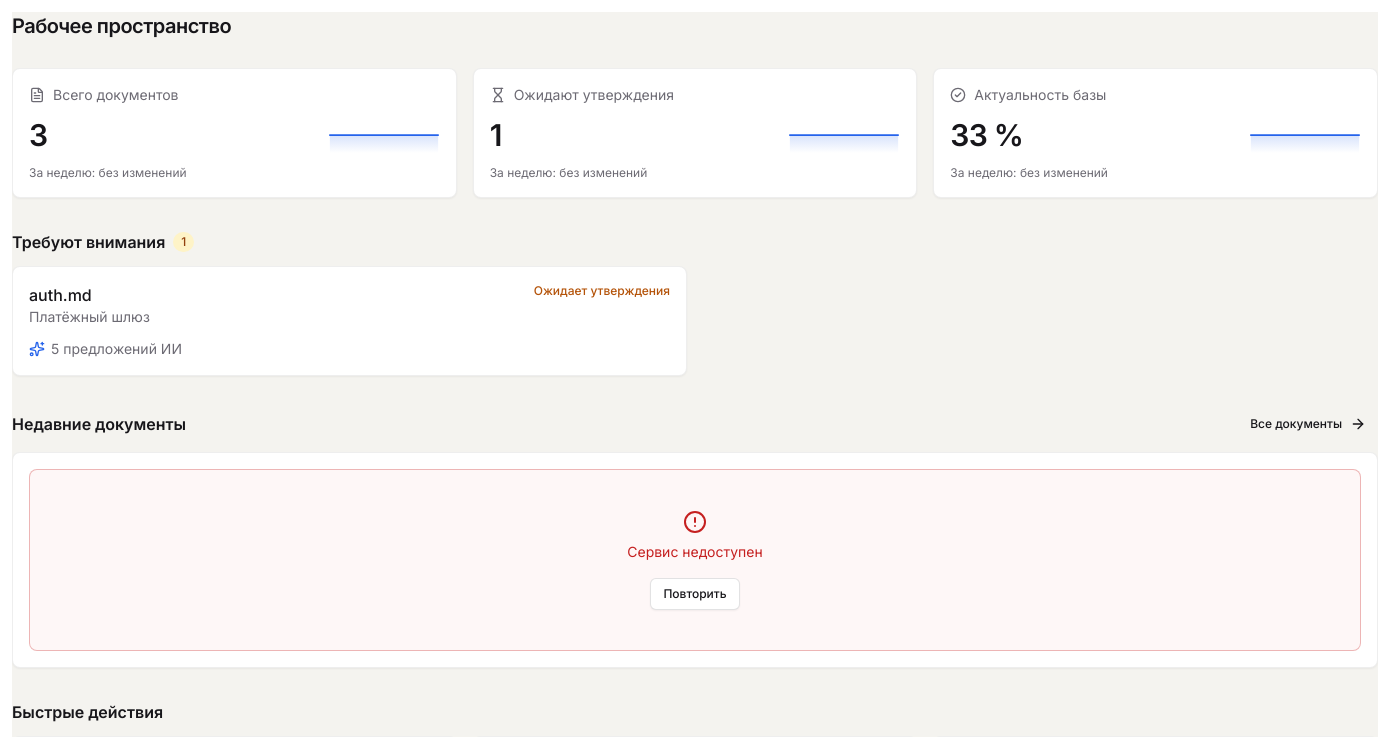
Рабочее пространство › ошибка одного блока не скрывает остальные и повторяется по кнопке
The width and height of the screenshot is (1390, 737).
Expected: the text "Сервис недоступен" is shown, [627,542,763,562]
Expected: the list named "Показатели" is shown, [12,68,1378,198]
Click the button "Повторить" at (695, 594), box [650,578,740,610]
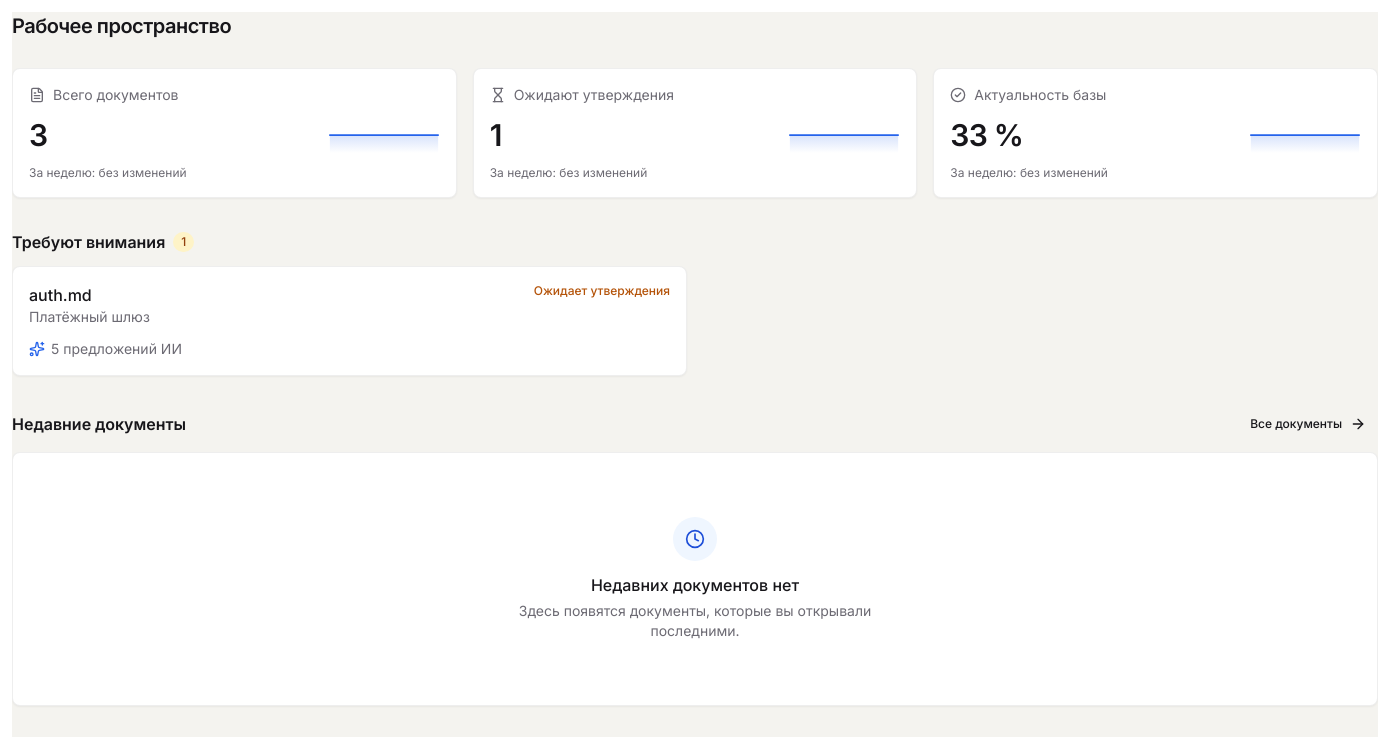
Now the text "Недавних документов нет" is shown, box [591,573,799,597]
